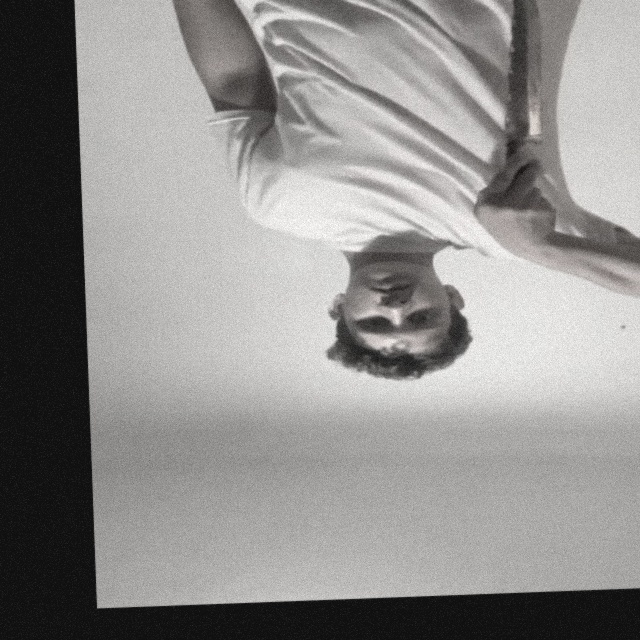Sharp-Object: (496, 0, 555, 152)
